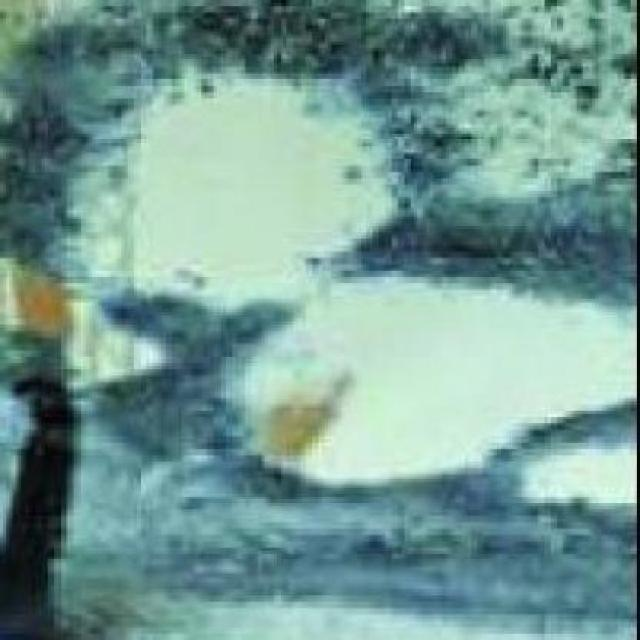pothole: (206, 271, 634, 494), (51, 70, 402, 315), (0, 261, 172, 398), (506, 448, 637, 522)
